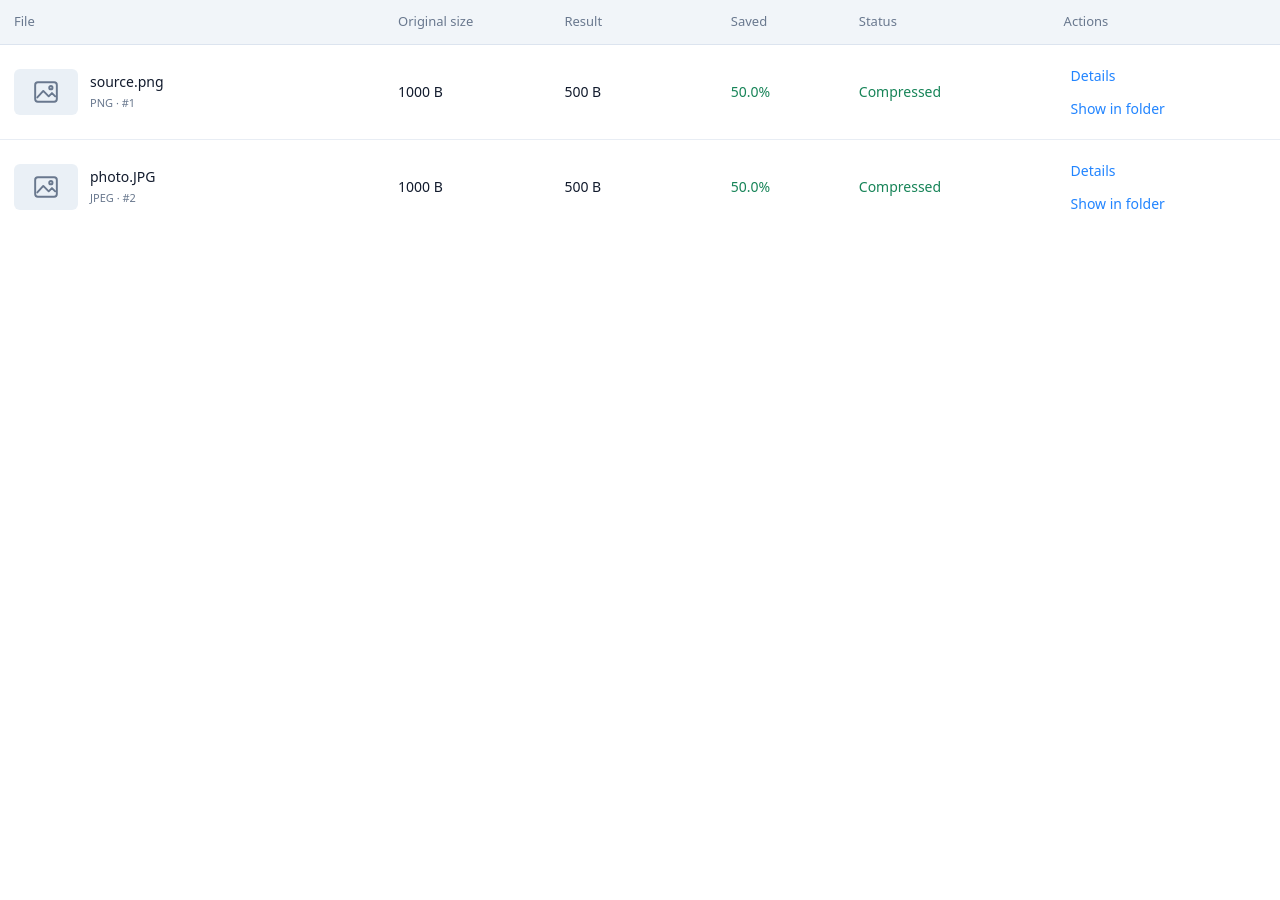
shows mixed formats and JPEG fallback honestly in en
Expected: the text "PNG · #1" is shown, [90,95,135,110]
Expected: the text "JPEG · #2" is shown, [90,190,136,205]
Hover over the button "Details" in the row of "photo.JPG": (1093, 170) [1064,154,1123,186]
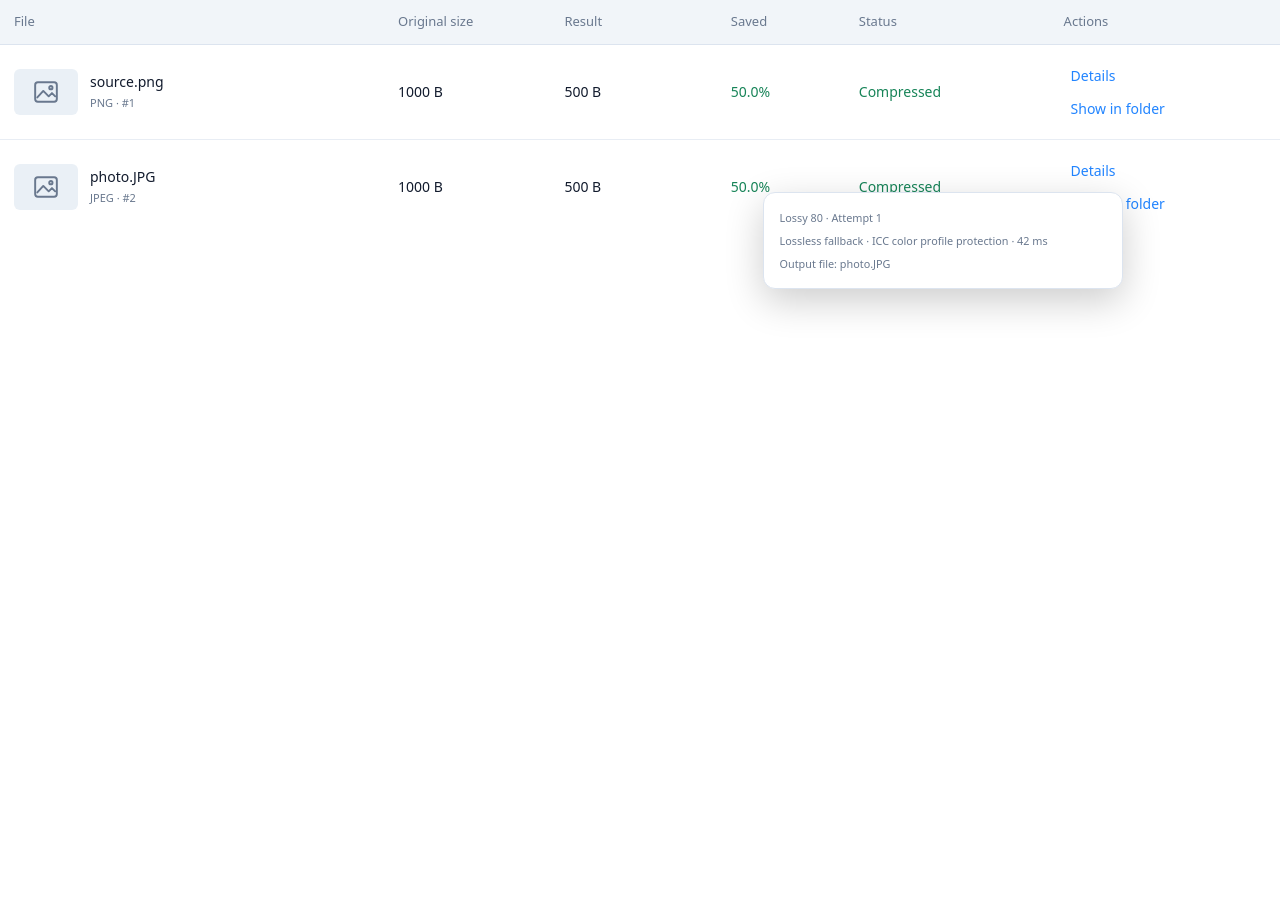
Expected: the dialog shows "Lossless fallback · ICC color profile protection", [762,192,1122,289]
